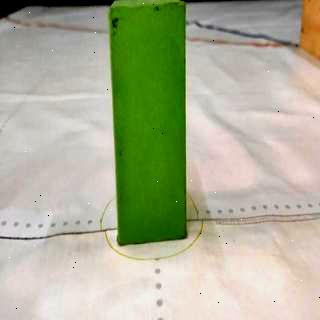greenbox: (108, 2, 188, 241)
